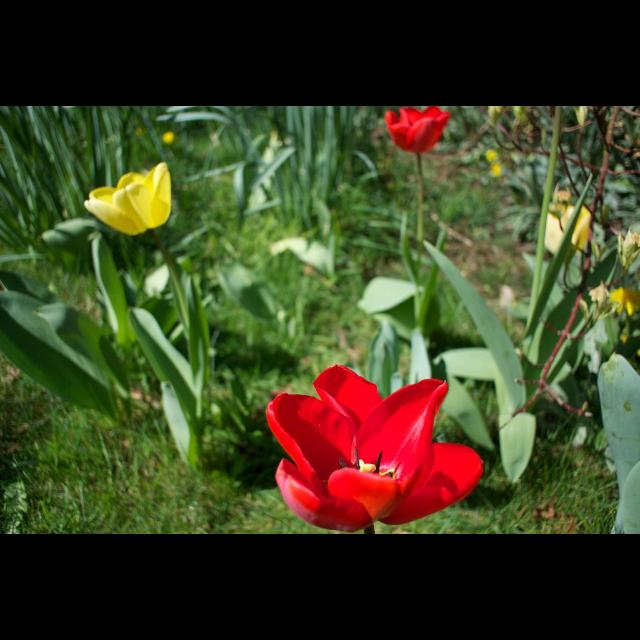Flower: (264, 363, 488, 533), (74, 160, 174, 238), (388, 106, 452, 160)
